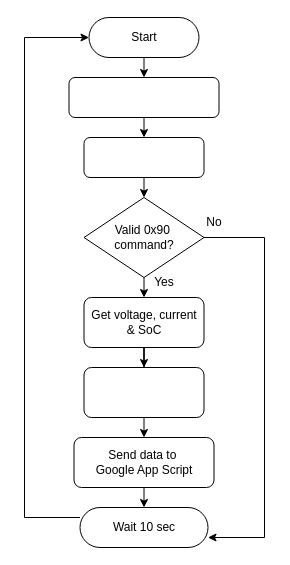
Image size: 290x565. Some labels were removed from this diagram. The shapes that lost their labels are listed below. From the top down, each one's centre as x and y in pixels, then its label:
(x=143, y=97): Send 0x90 command
(x=143, y=157): Read Response
(x=143, y=392): Decode cell voltage and temperature
